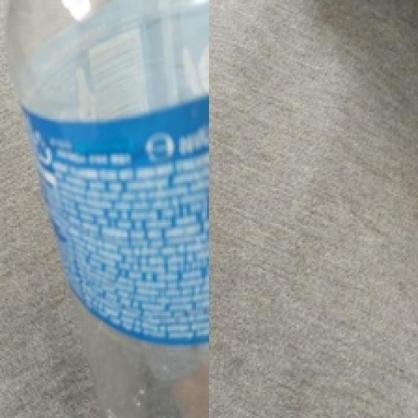bottle: (0, 0, 210, 418)
label: (22, 92, 214, 342)
